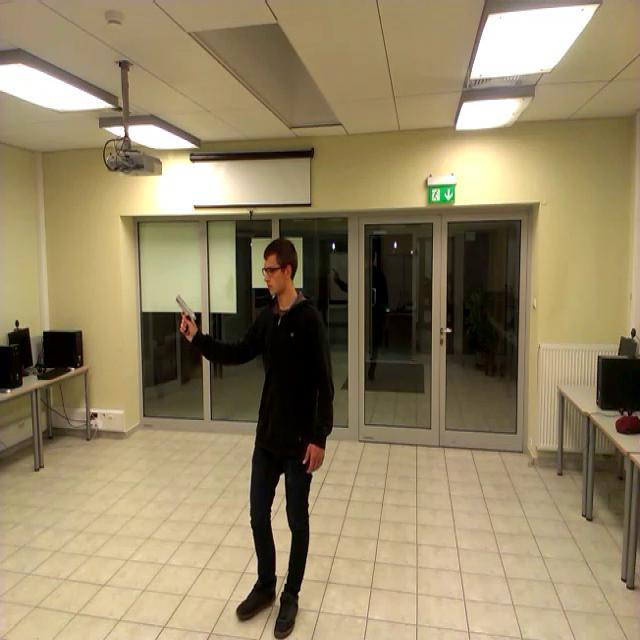Gun: (175, 294, 195, 334)
